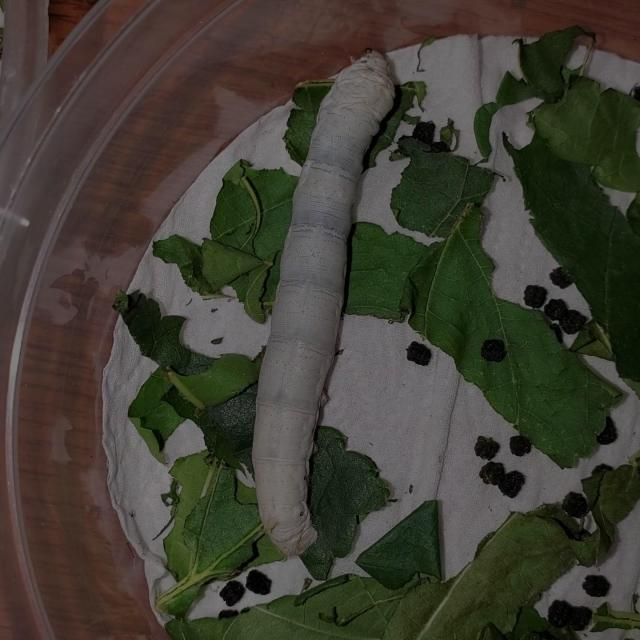Healthy: (222, 17, 469, 591)
